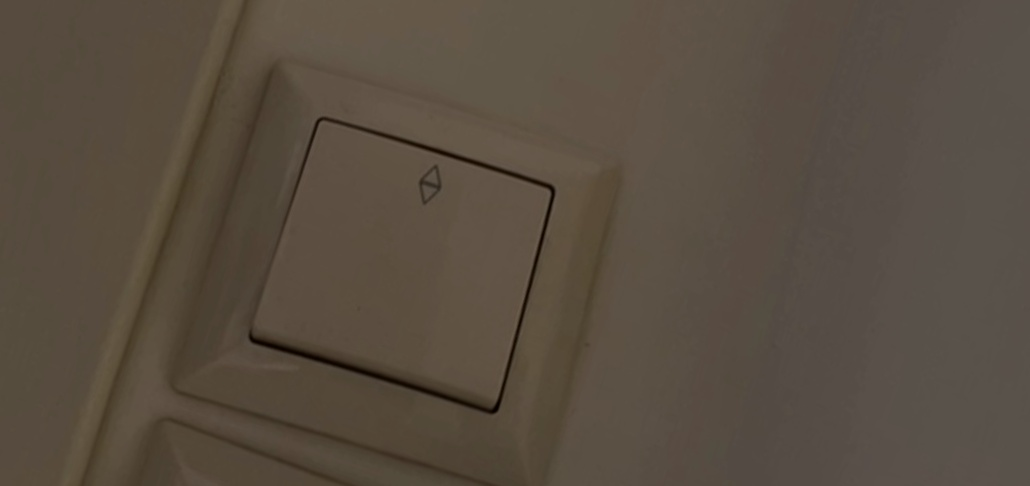Light Switcher: (246, 112, 563, 419)
